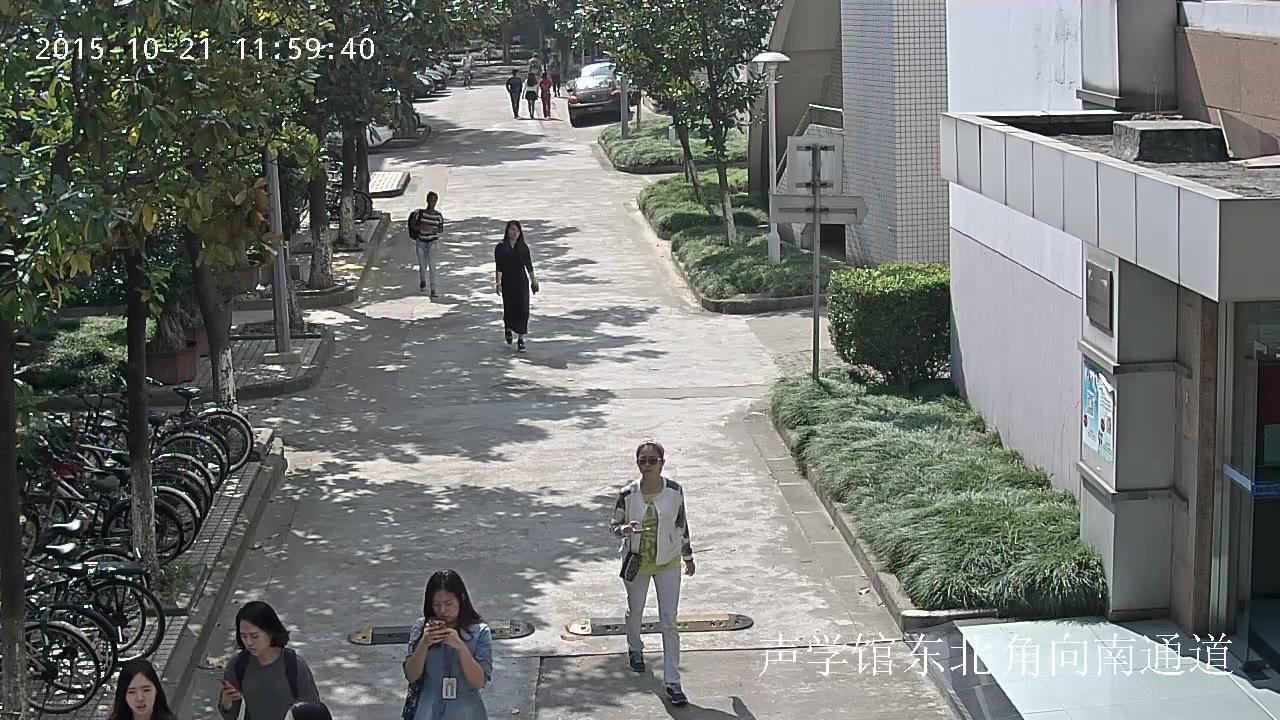person: (608, 439, 696, 707), (401, 569, 492, 720), (215, 601, 320, 720), (495, 220, 538, 352), (407, 191, 442, 297), (505, 69, 522, 118), (522, 72, 538, 119), (538, 72, 551, 118), (549, 55, 561, 97)
